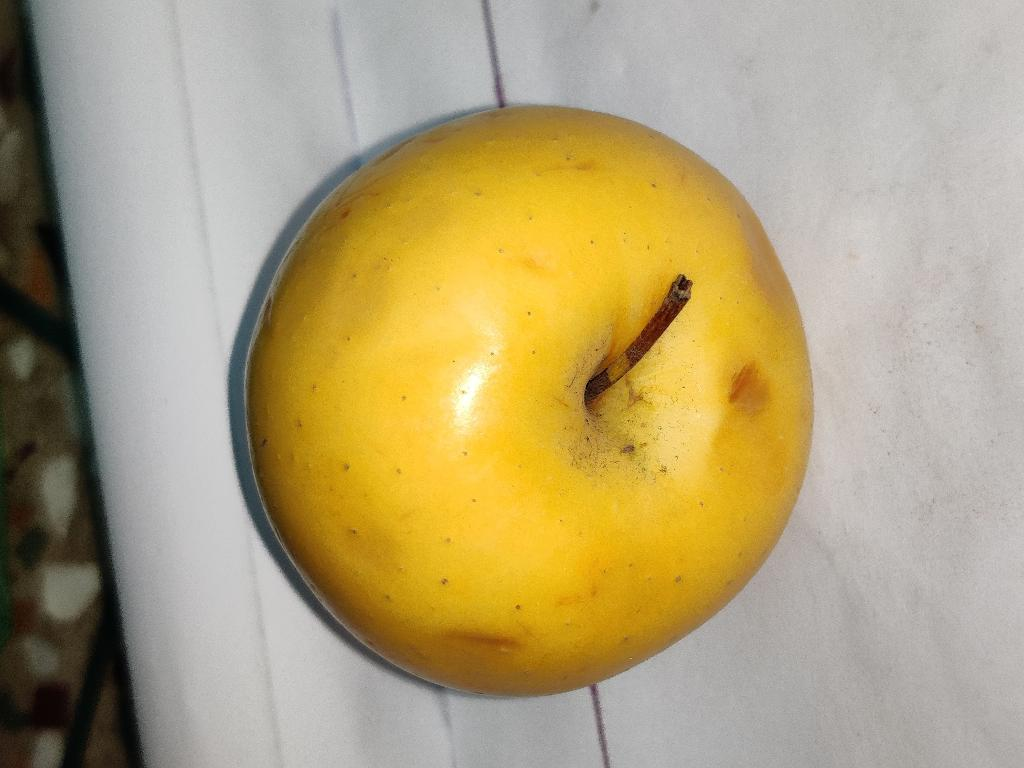apple: (242, 107, 813, 694)
surface_damage: (727, 361, 768, 414), (448, 633, 519, 650)
